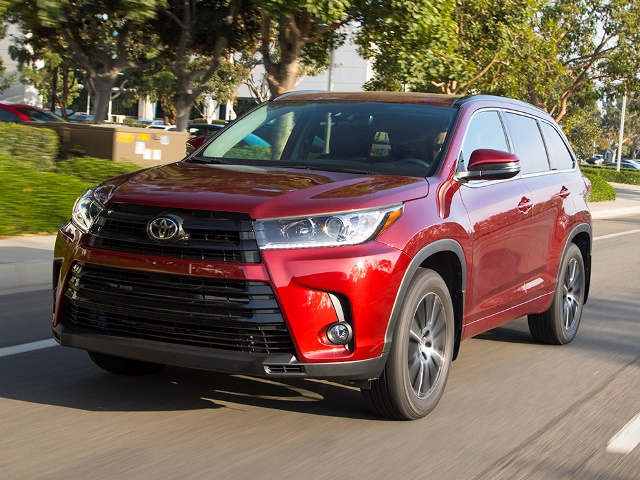Toyota RAV-4: (50, 87, 594, 423)
